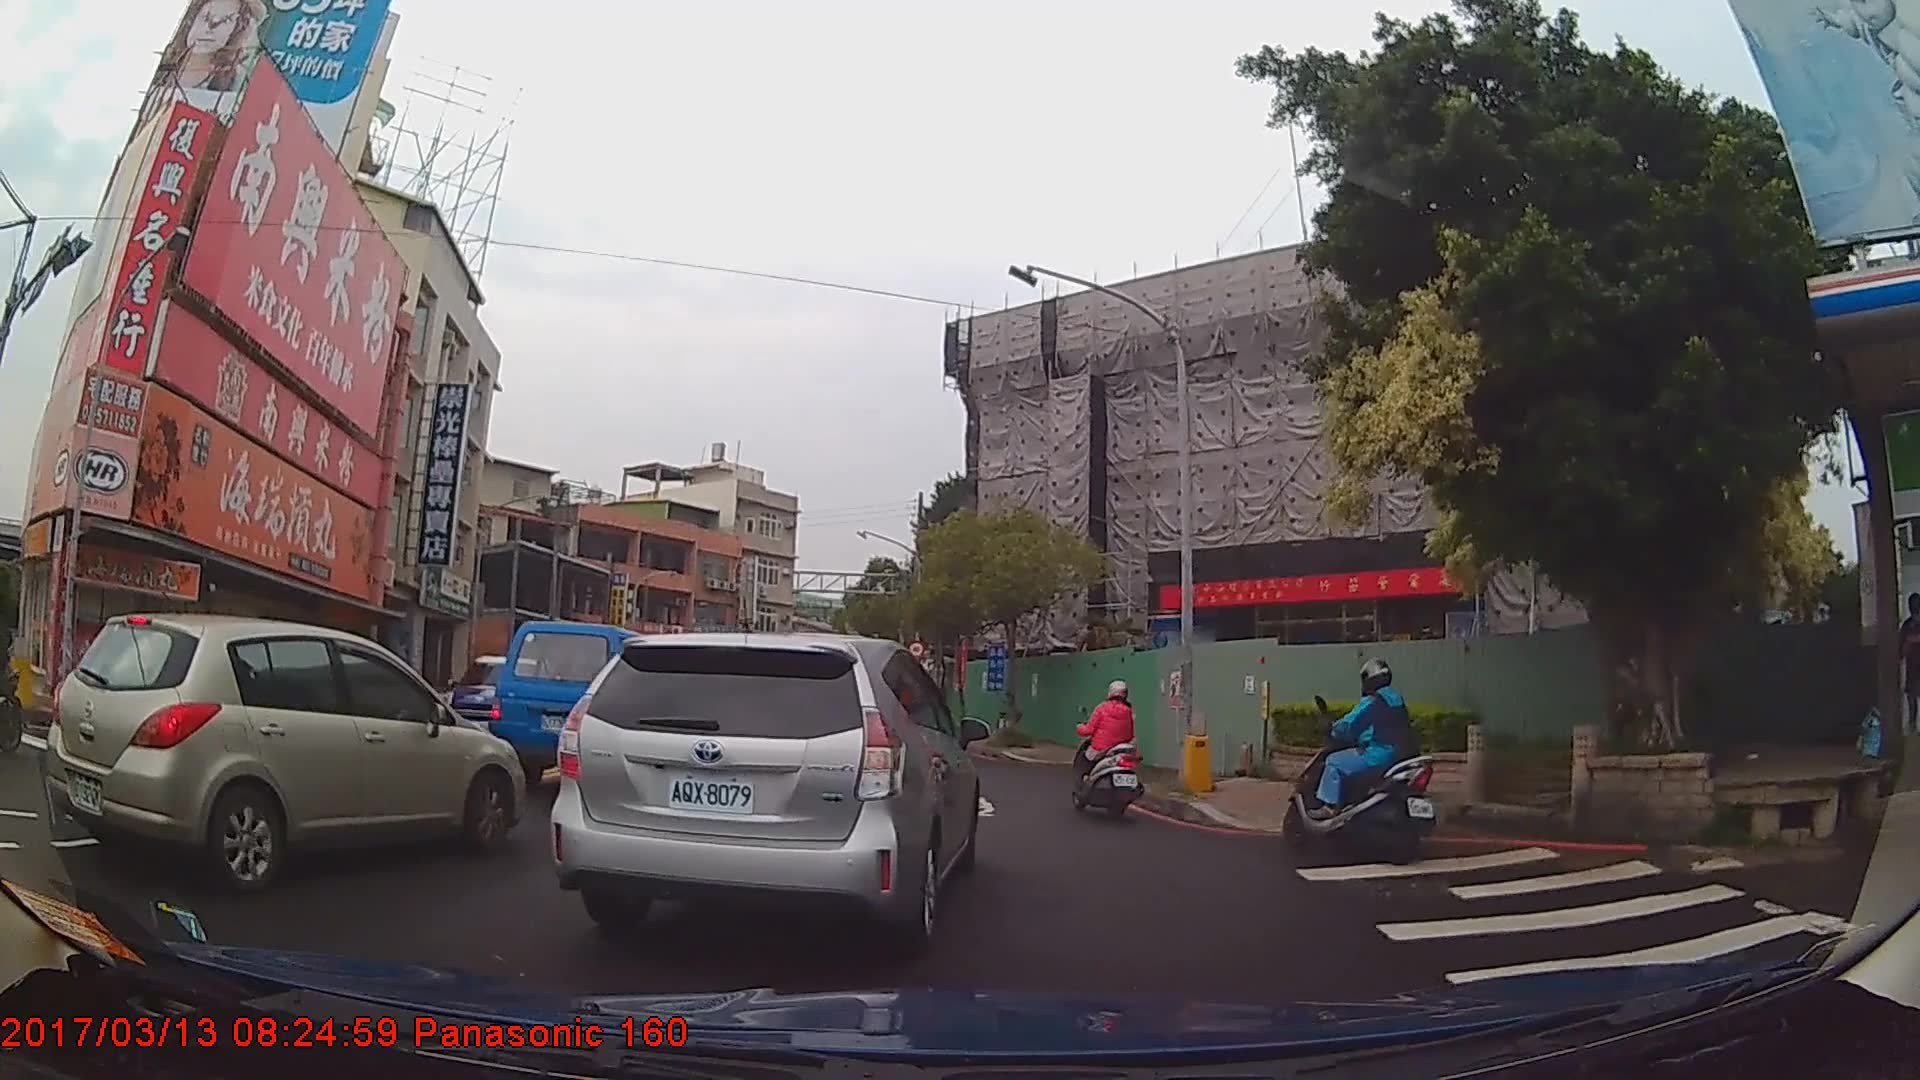pedestrian: (1896, 595, 1920, 734)
rider: (1282, 662, 1439, 859), (1065, 675, 1143, 816)
vehicle: (544, 626, 981, 946), (45, 611, 526, 892), (488, 618, 659, 790), (431, 648, 560, 759)
